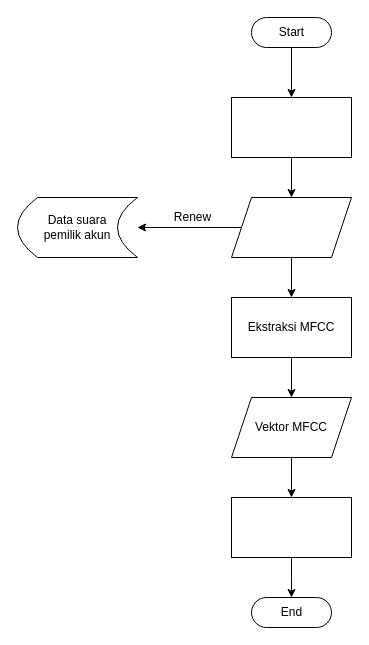
This 369x645 diagram has some shape labels left out. Each missing label, with the box of its shape:
Input data suara dan userid: (230, 196, 352, 258)
Menunggu input suara dan userid: (230, 96, 352, 158)
Training Model GMM: (230, 496, 352, 558)
